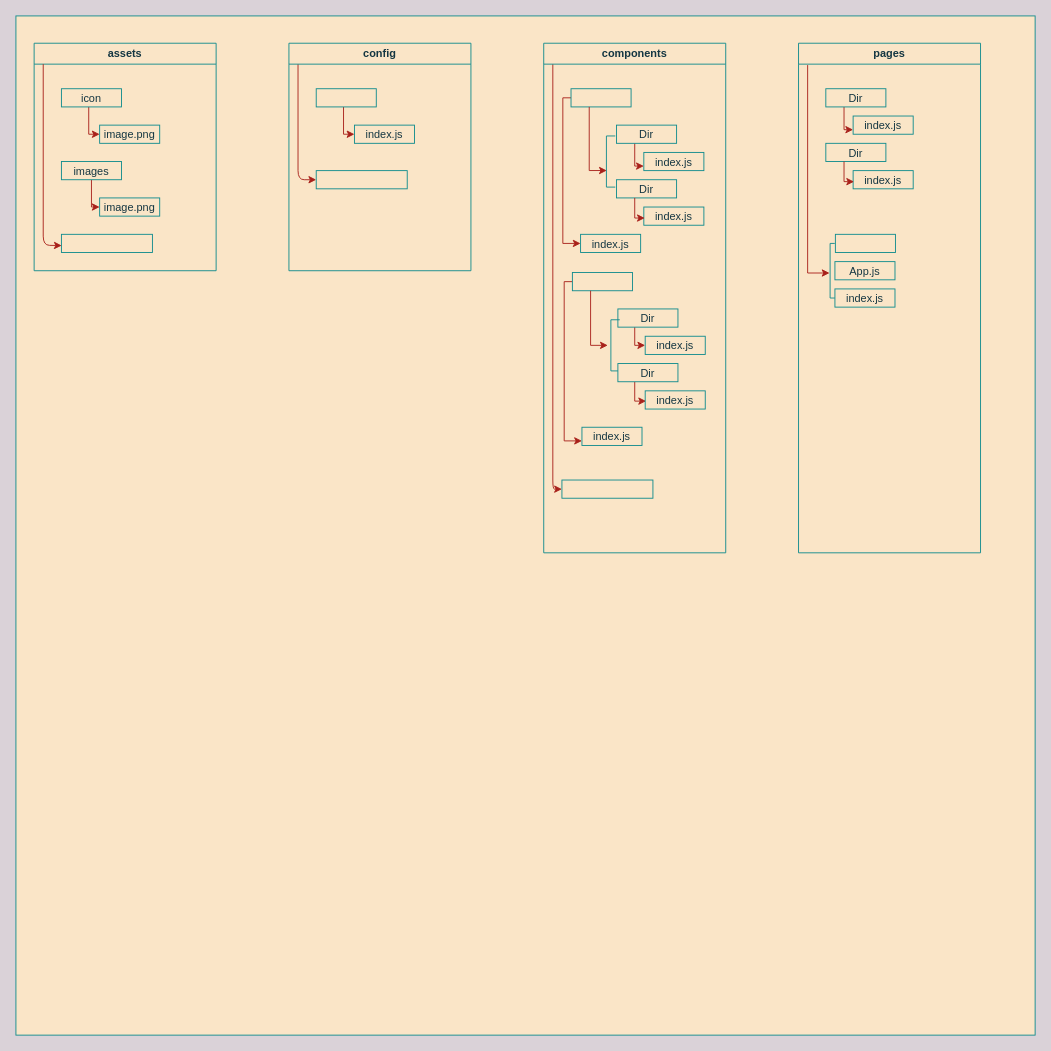
This 1051x1051 diagram has some shape labels left out. Each missing label, with the centre of its shape:
"App.css" goes at (x=864, y=243).
"assets/index.js" goes at (x=106, y=243).
"atoms" goes at (x=600, y=97).
"comp/index.js" goes at (x=607, y=488).
"con/index.js" goes at (x=361, y=179).
"molecules" goes at (x=601, y=281).
"Routers" goes at (x=345, y=97).
